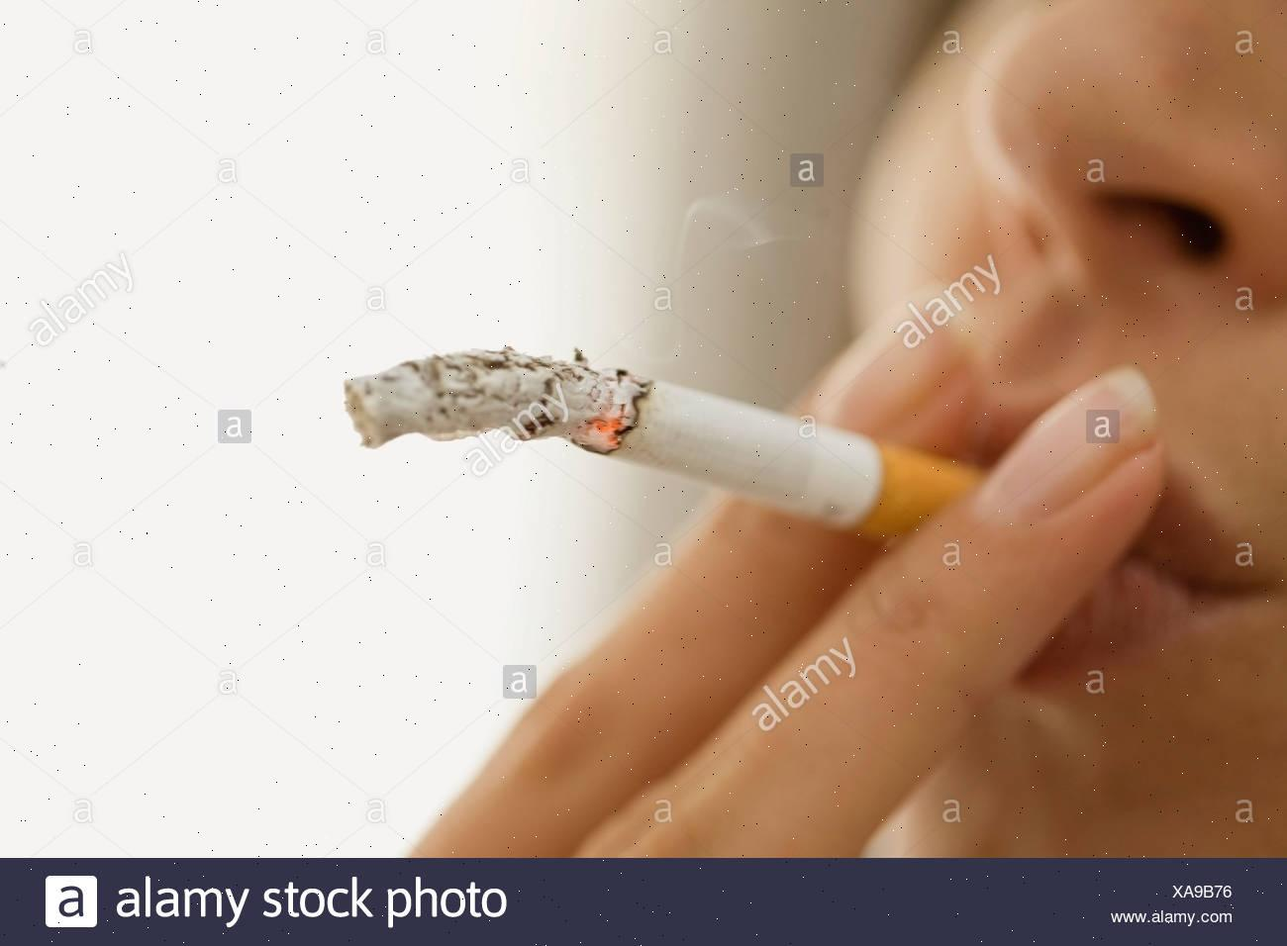cigarette: (345, 349, 978, 536)
